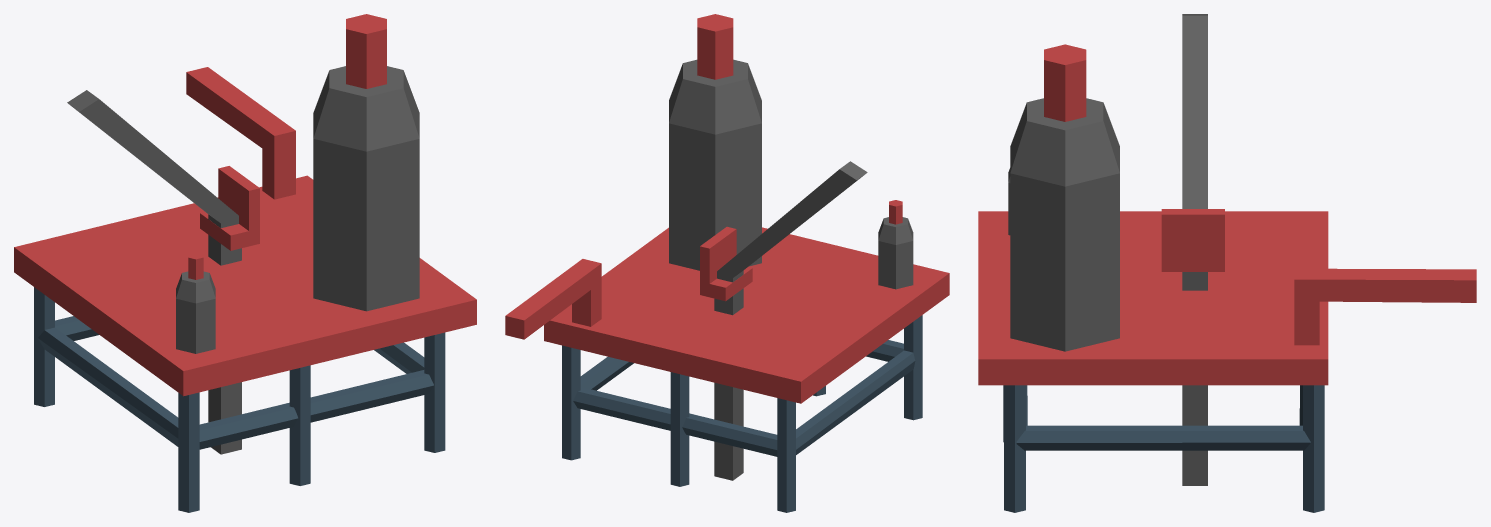
The model's file is Oil_Rig_Model.fbx.
3 views of the same model, side by side, from view 1: azimuth 30°, elevation 25°; view 2: azimuth 150°, elevation 25°; view 3: azimuth 270°, elevation 25° (orthographic). The views are drawn at different scales.
Visible parts, largest first — view 1: polySurface10; view 2: polySurface10; view 3: polySurface10.
Boxes of the visible parts, x1,y1,x2,y2 form: polySurface10: [14, 14, 476, 512]; polySurface10: [505, 14, 949, 512]; polySurface10: [978, 14, 1476, 512].
Size of the model in its own units: 5.63 by 8.1 by 7.87.
1 material, 1 textured.
